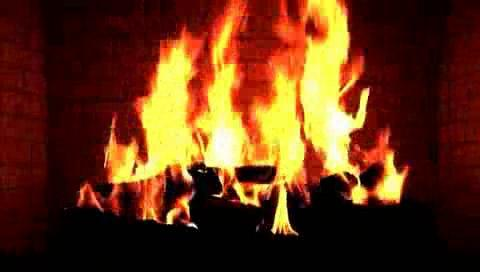fire: (88, 0, 424, 229)
